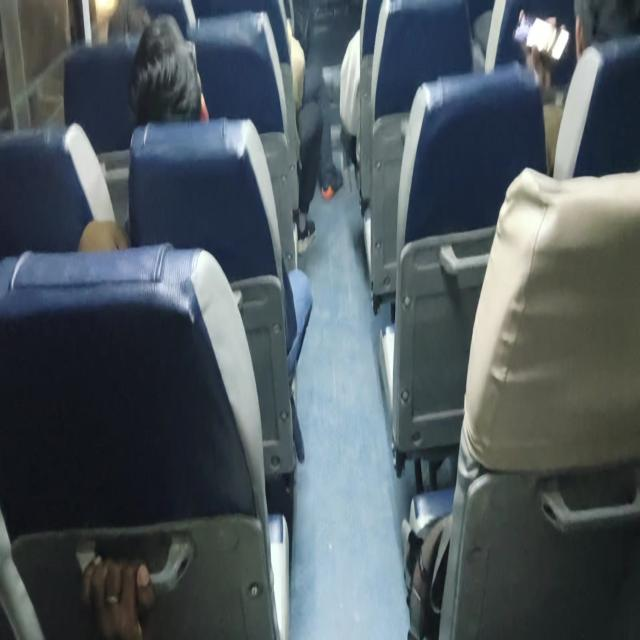person: (140, 27, 212, 121), (106, 1, 169, 35)
